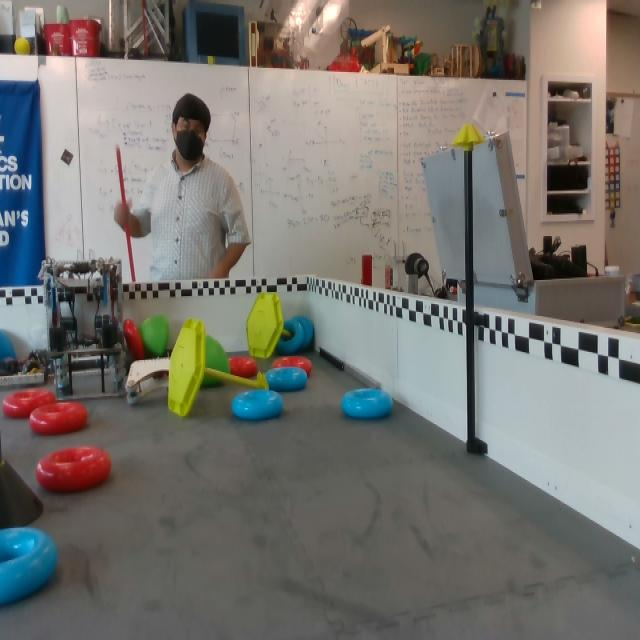Blue-Ring: (0, 528, 57, 606), (341, 390, 393, 421), (230, 392, 283, 422), (270, 367, 311, 392), (278, 320, 304, 354), (290, 315, 313, 345)
Mobile-Goal: (167, 317, 271, 418), (246, 291, 293, 359)
Red-Ring: (34, 447, 111, 495), (29, 402, 89, 435), (0, 389, 56, 418), (123, 319, 150, 362), (273, 355, 311, 373), (230, 357, 257, 375)
Yellow-Stake-Head: (452, 124, 486, 146)
